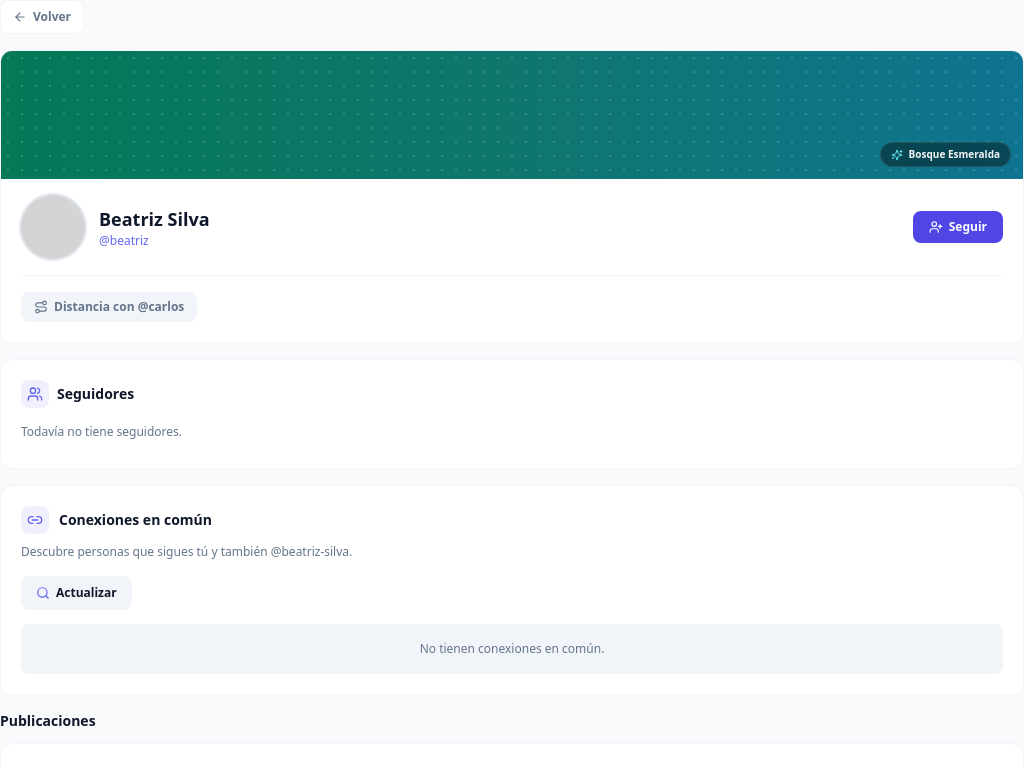
Test: PerfilAjeno › Botón de seguimiento › revierte el botón y avisa cuando seguir falla
The image size is (1024, 768).
Click the button "Seguir" at (958, 227), box [913,211,1003,243]
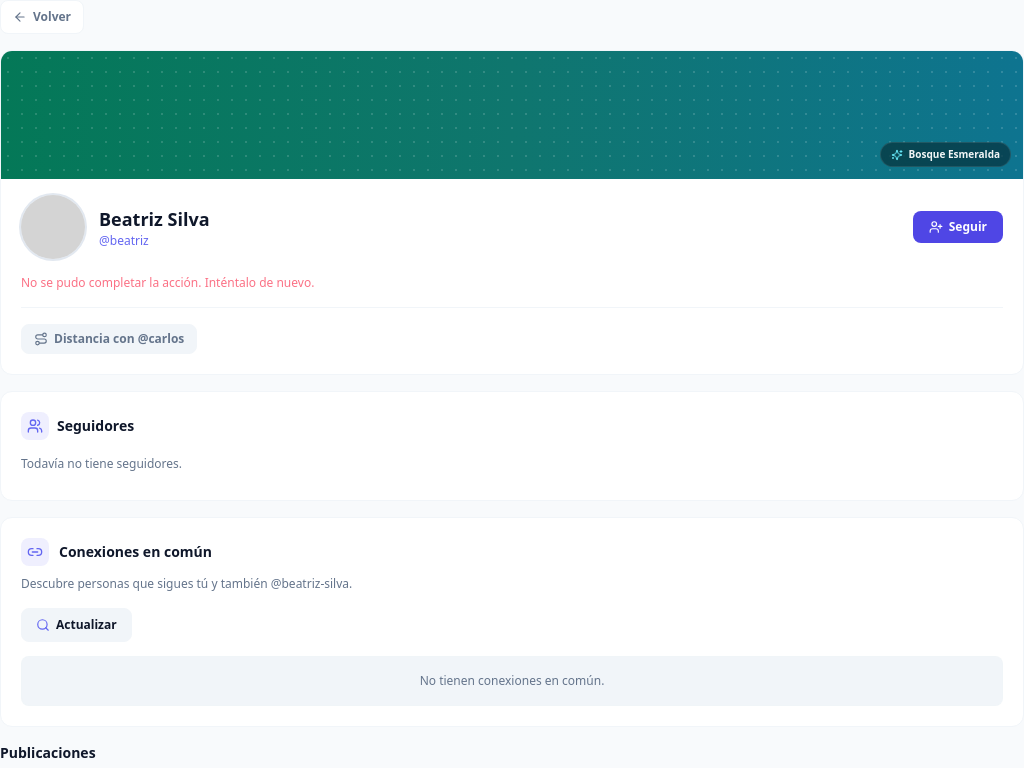
Now the message shows "No se pudo completar la acción", box [21,274,314,291]
